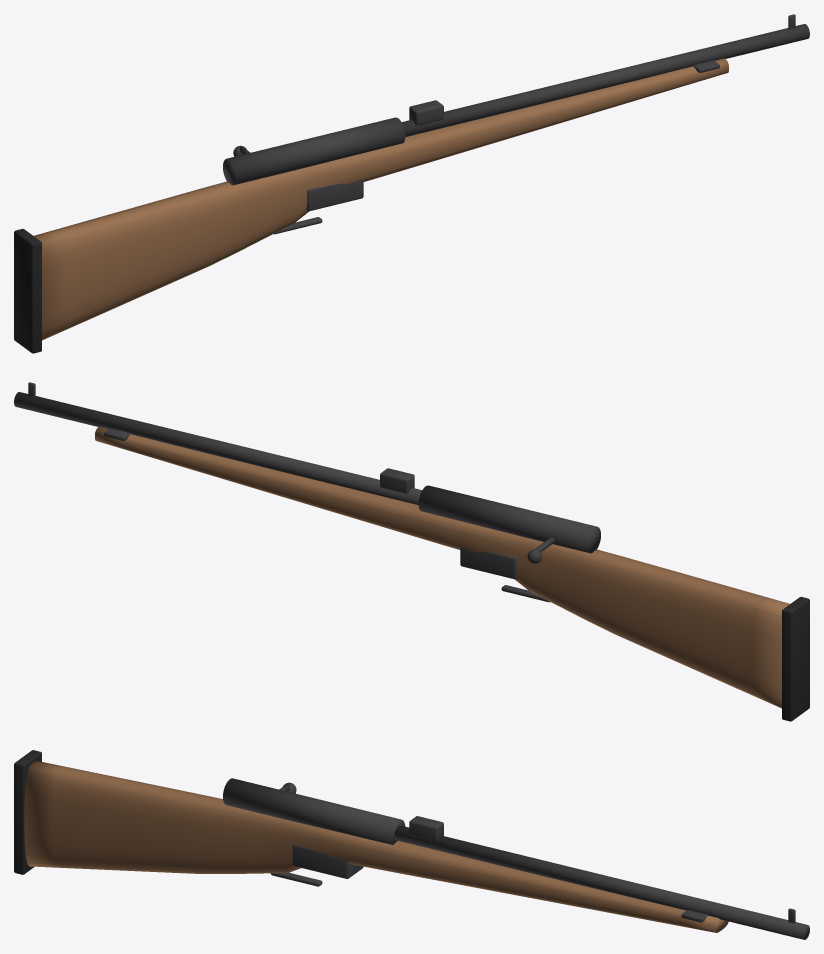
Rendered from SM_Kar98k.glb.
The picture shows the model from 3 angles, top to bottom: view 1: azimuth 30°, elevation 25°; view 2: azimuth 150°, elevation 25°; view 3: azimuth 330°, elevation 25°; orthographic projection.
Parts seen in each view (by area): view 1: SM_Kar98k; view 2: SM_Kar98k; view 3: SM_Kar98k.
Part boxes in pixels (x1,y1,x2,y2): SM_Kar98k: (14, 14, 809, 353); SM_Kar98k: (14, 382, 809, 721); SM_Kar98k: (14, 750, 809, 939).
Size of the model in its own units: 1.11 by 0.197 by 0.0925.
